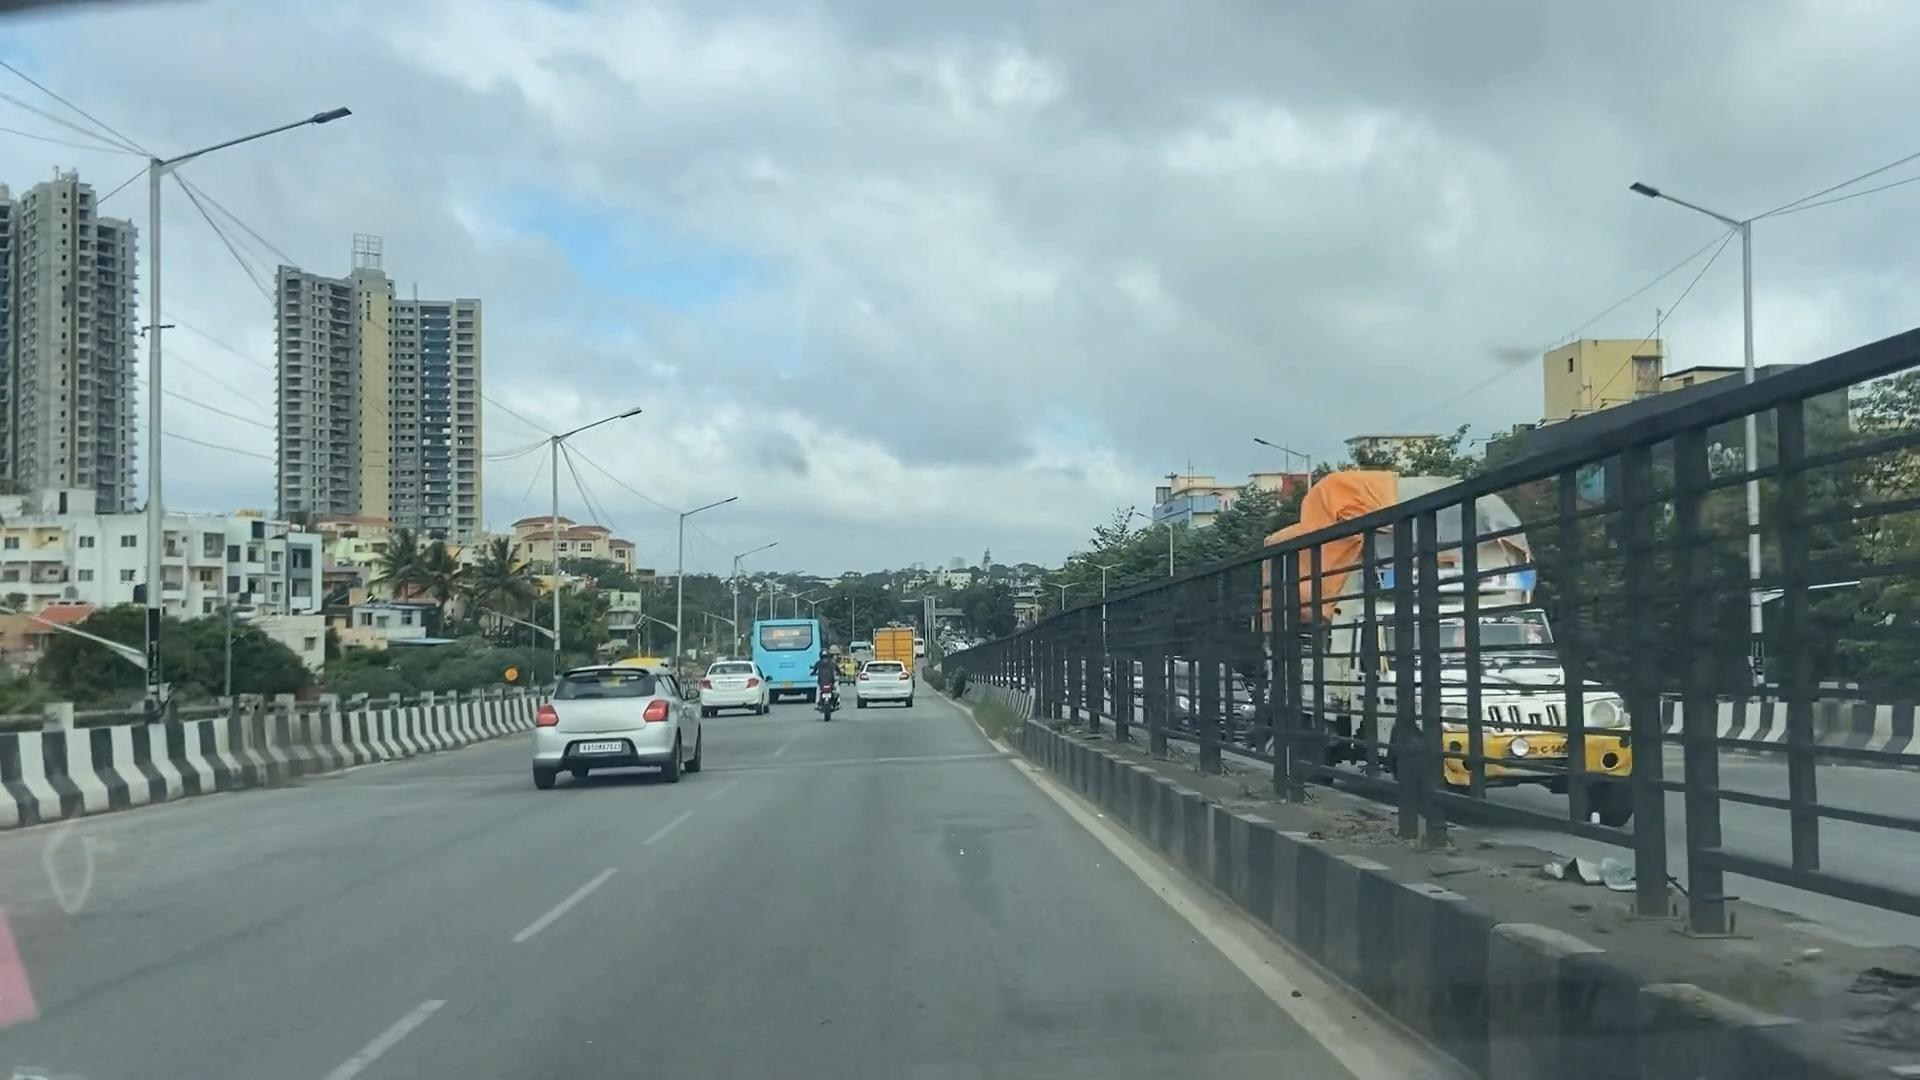HMV: (749, 609, 841, 738)
LMV: (526, 637, 709, 812), (799, 622, 862, 746), (843, 642, 927, 724), (692, 655, 779, 733)
